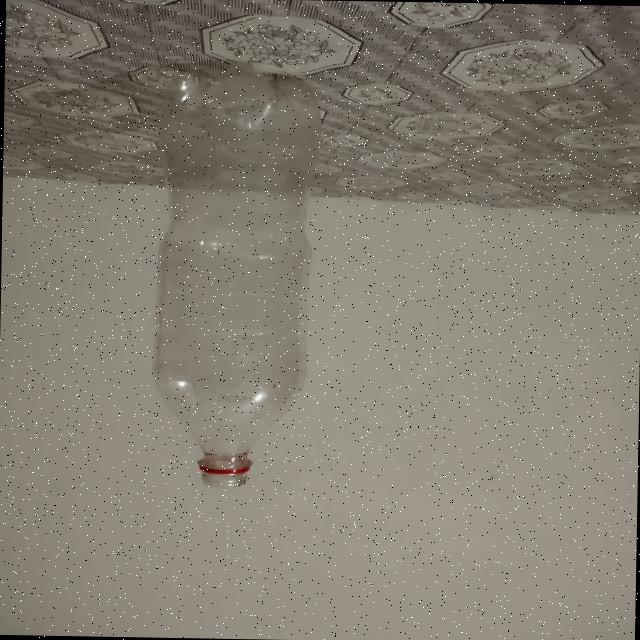bottle: (144, 64, 307, 488)
